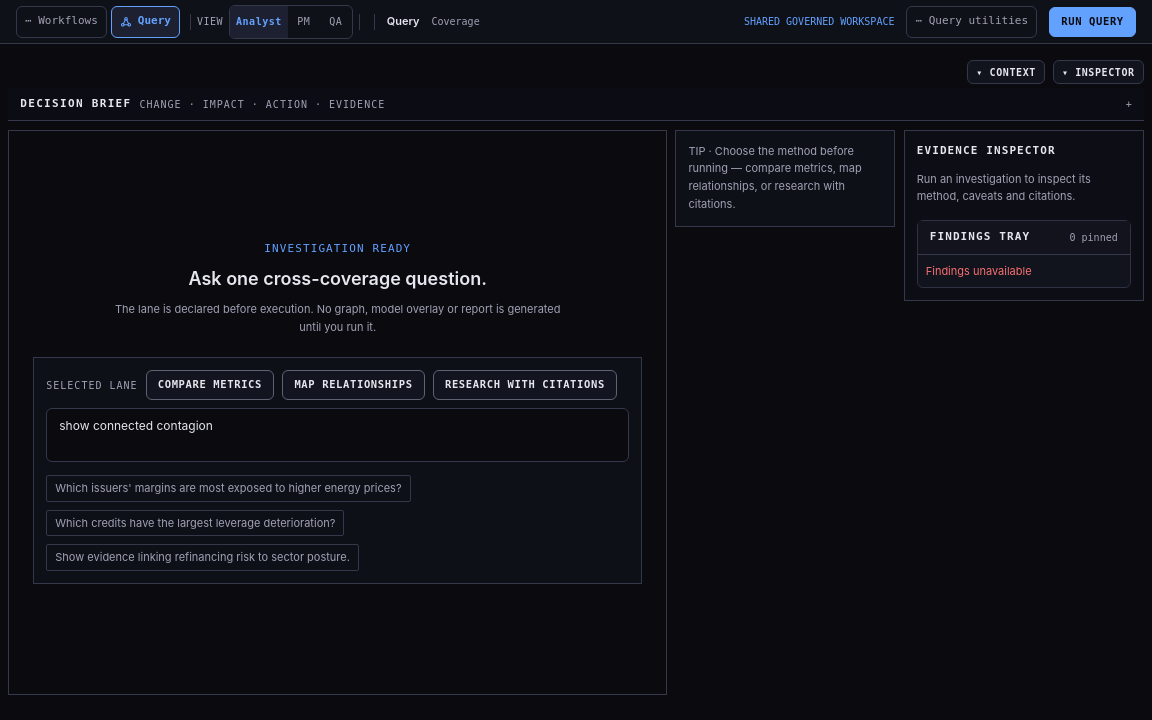
Query investigation edge interactions › accepts focus events, manual lane overrides, suggestions, starters, and keyboard execution
Expected: the text box named "Query coverage" holds "show connected contagion", [46,408,629,462]
Step 1. Click the button "Compare metrics" → (210, 385), box [146,370,274,400]
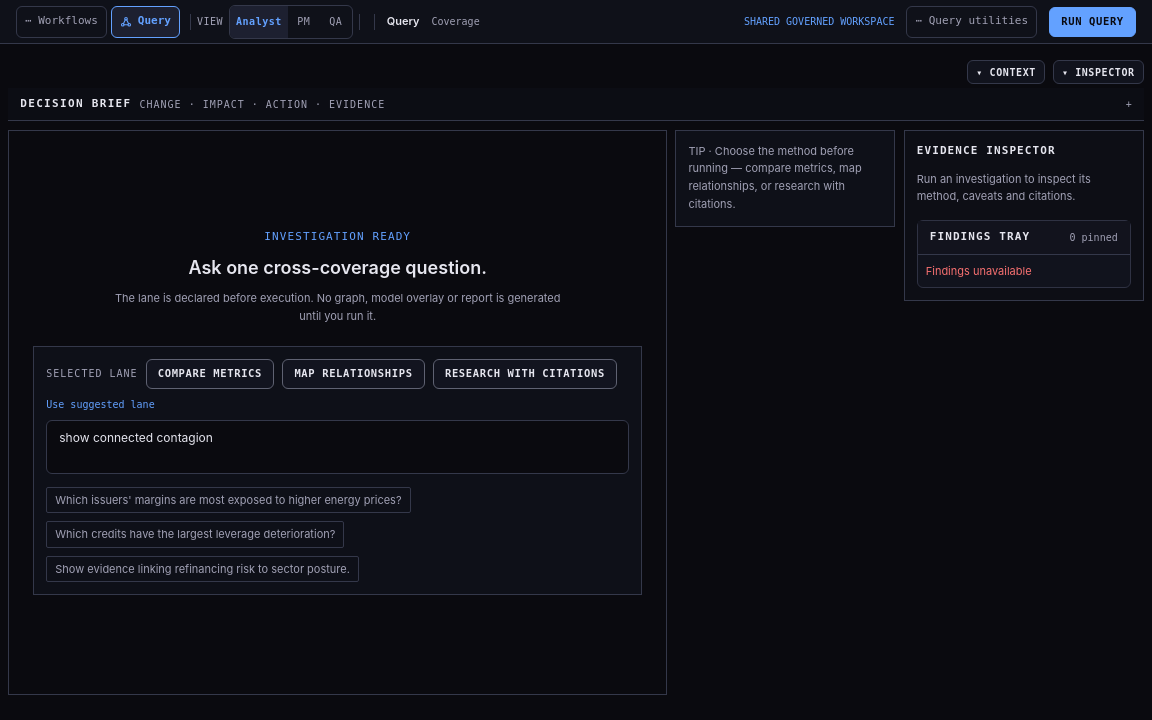
Expected: the button "Use suggested lane" is shown
Step 2. Click the button "Use suggested lane" → (100, 404), box [46,397,155,412]
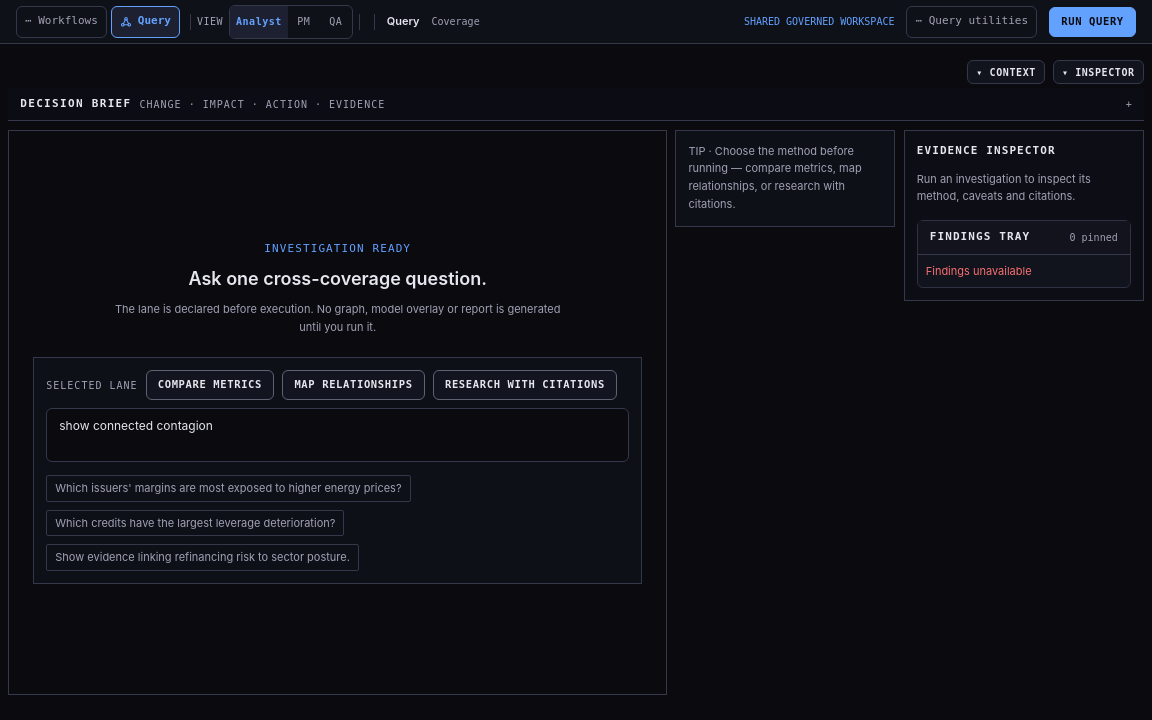
Expected: the button "Map relationships" is pressed, [282,370,425,400]
Step 3. Press Enter in the text box named "Query coverage", box [46,408,629,462]
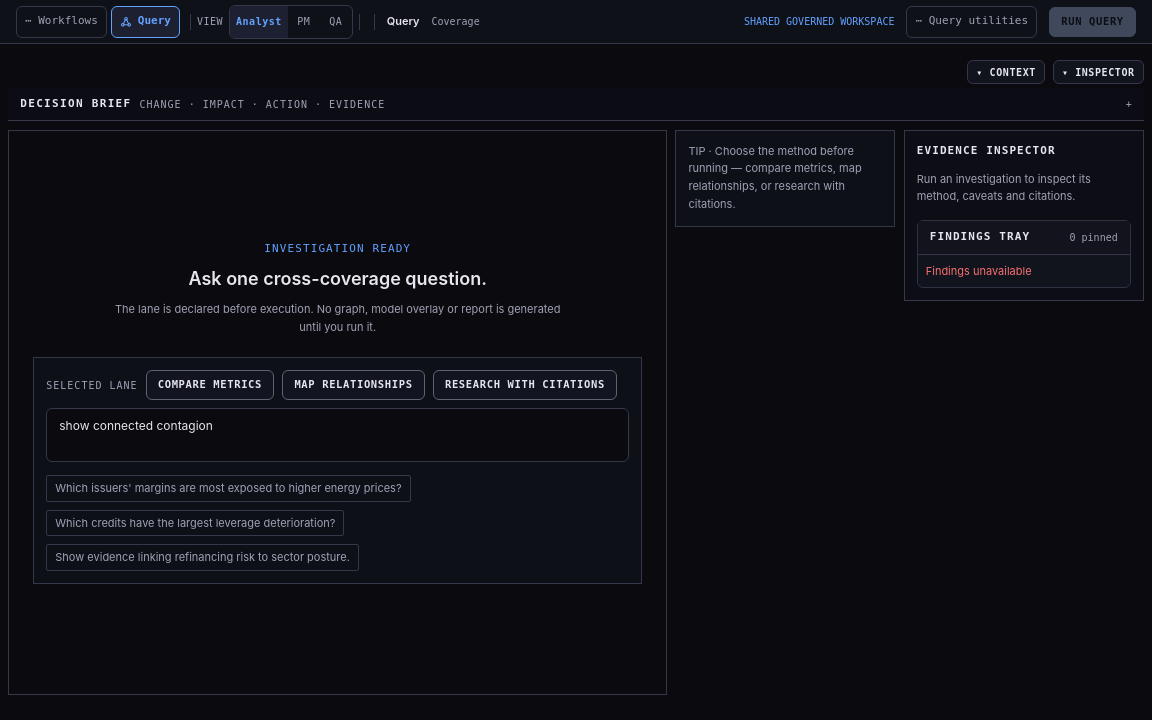
Step 4. Press Enter in the text box named "Query coverage", box [46,408,629,462]
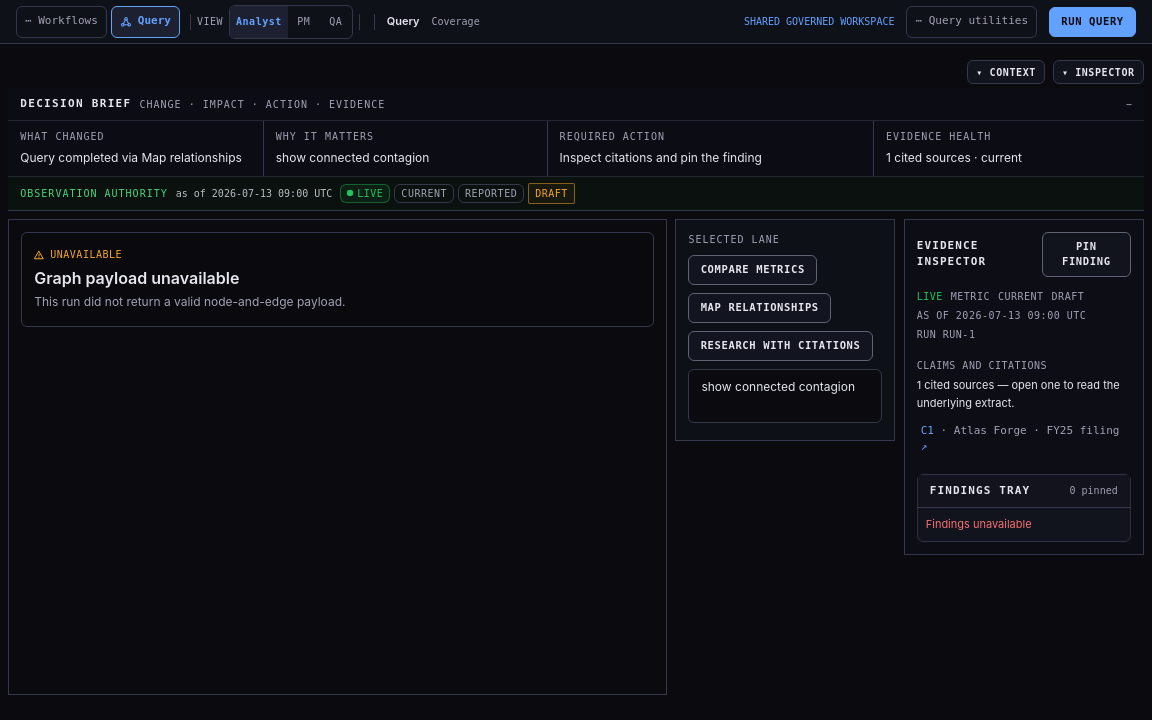
Expected: the heading "Graph payload unavailable" is shown, [34,268,240,288]
